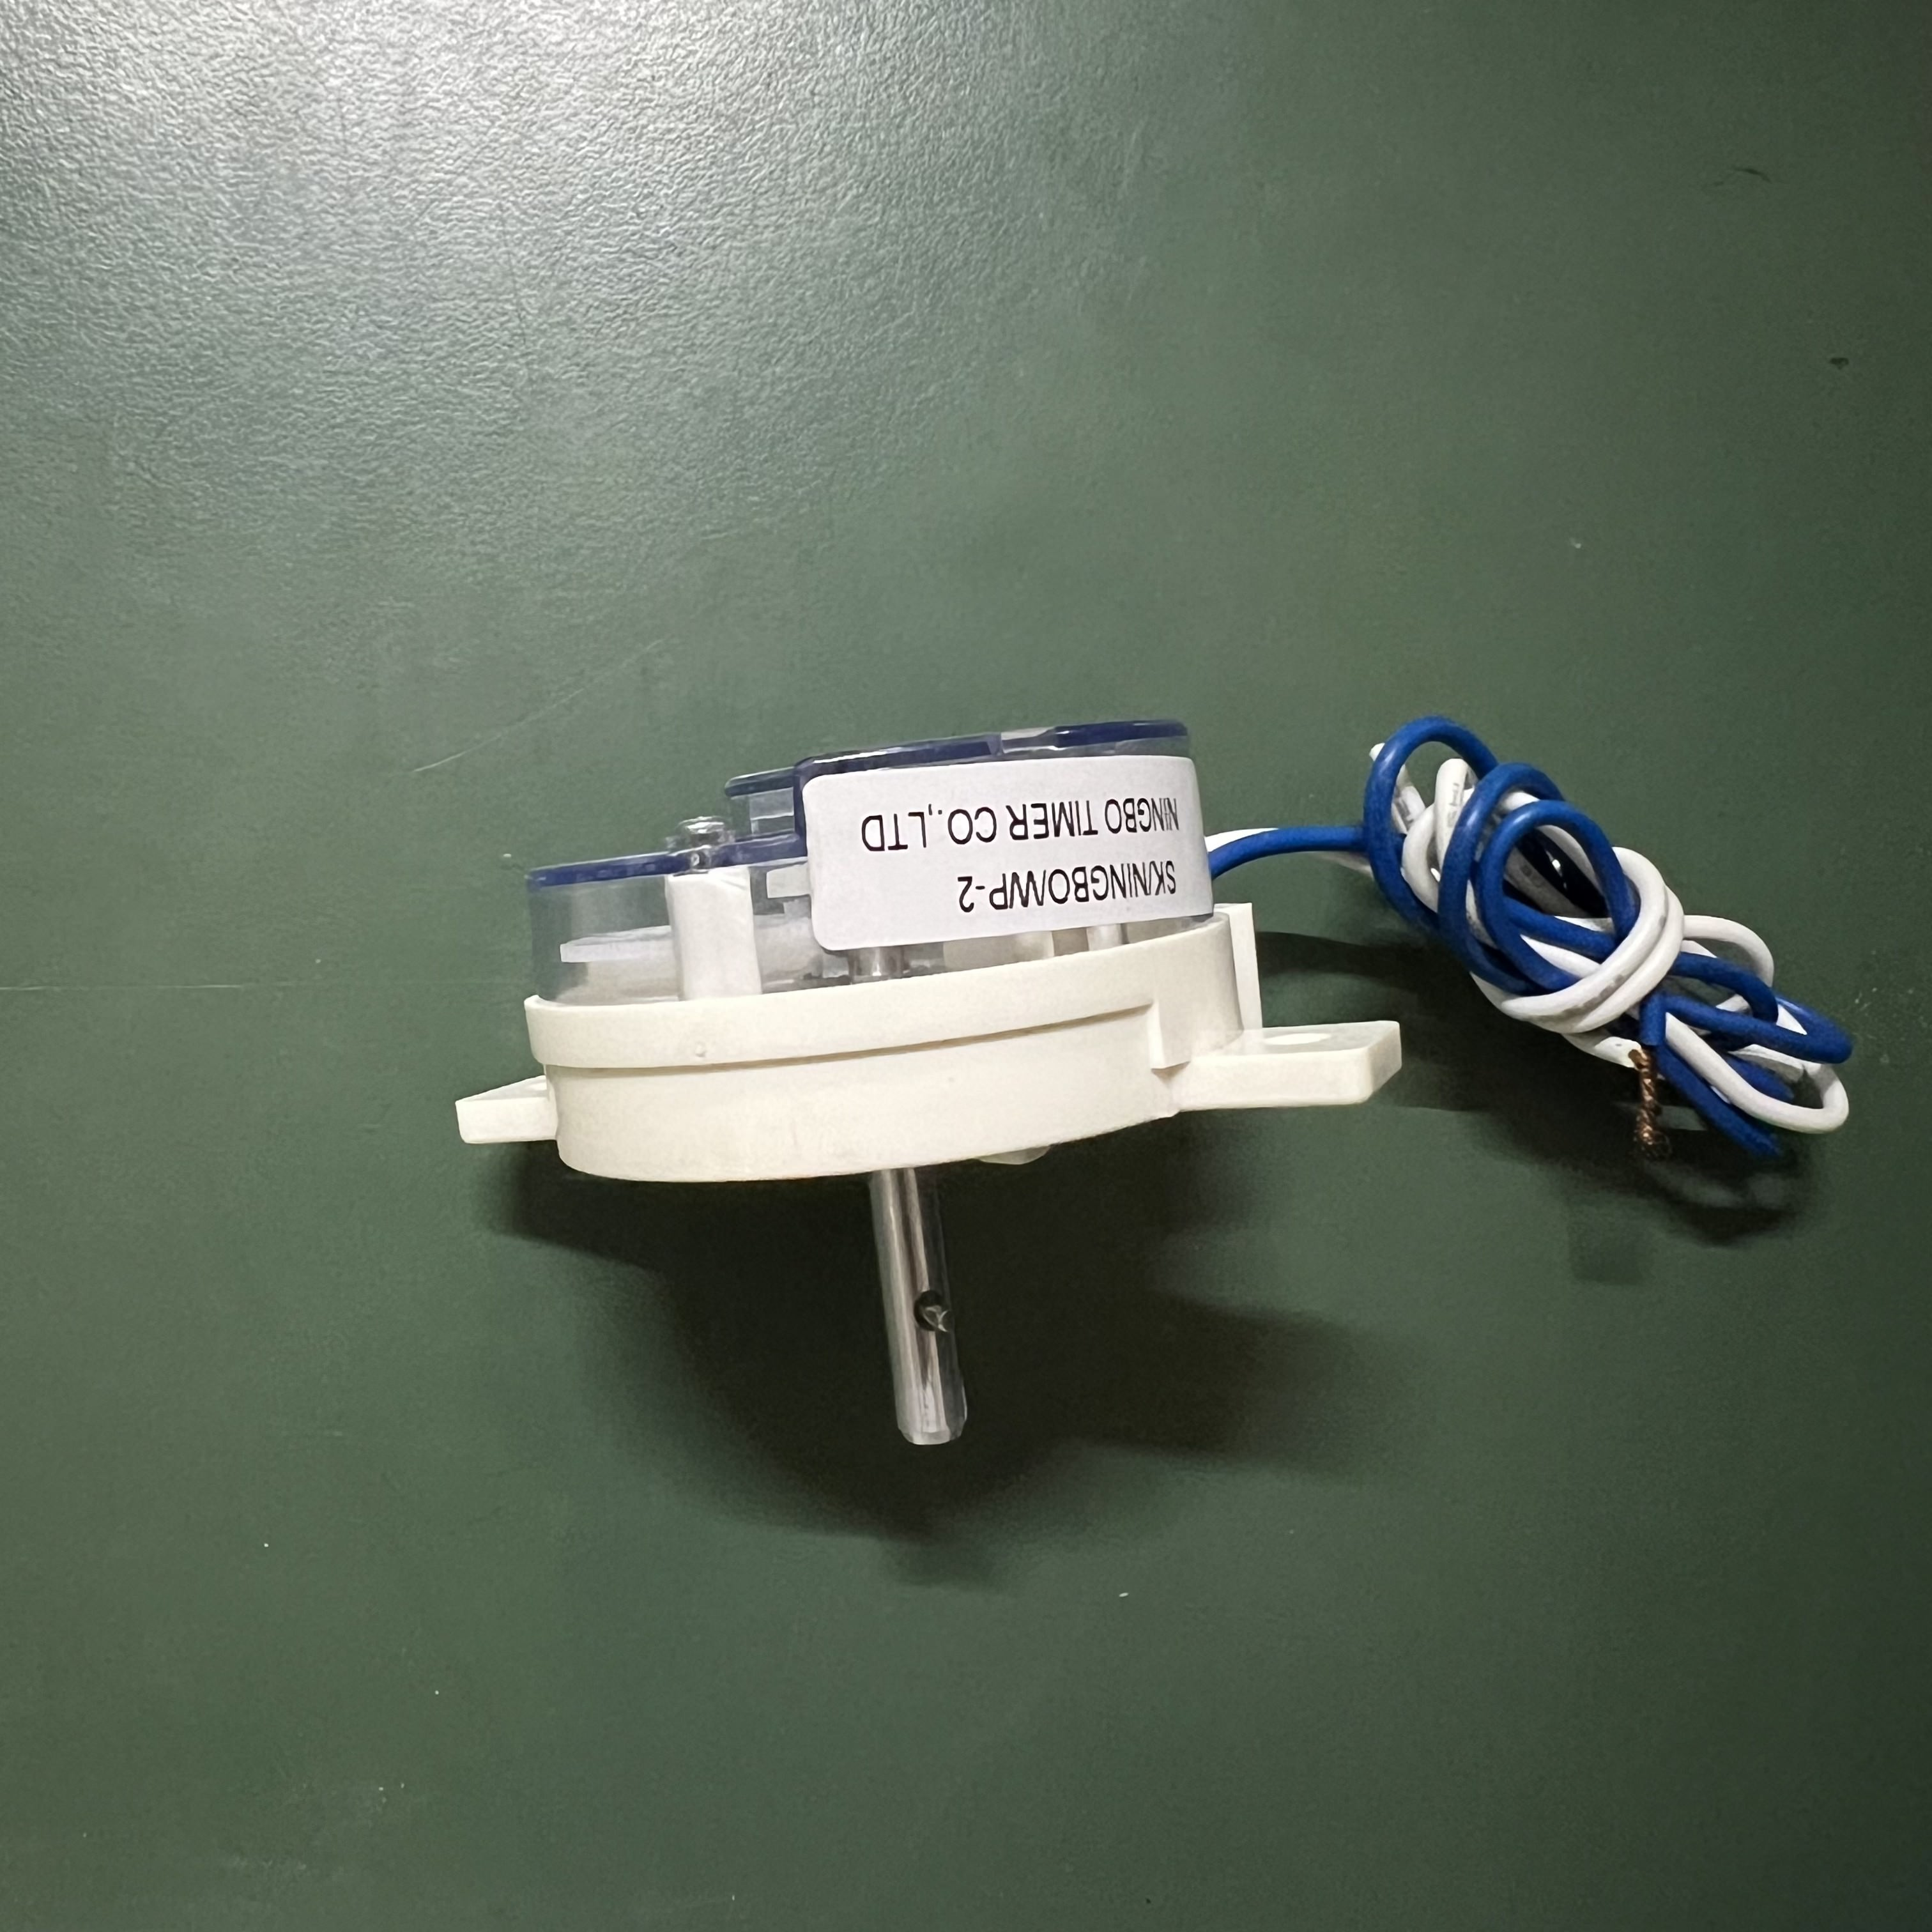circle_timer: (451, 702, 1870, 1445)
